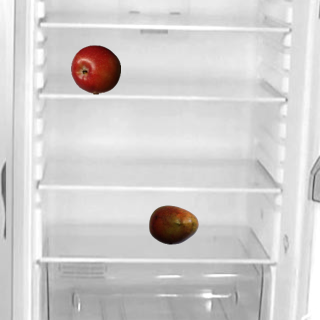Apple Braeburn: (70, 44, 120, 94)
Mango Red: (148, 199, 198, 249)
